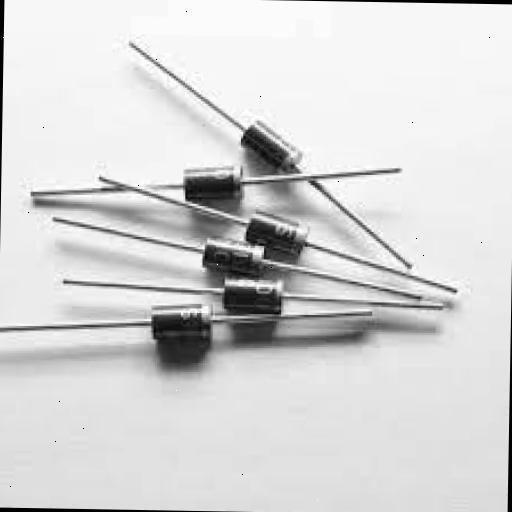DIODE: (0, 34, 463, 360), (140, 286, 282, 368), (230, 104, 344, 200), (173, 160, 318, 235), (214, 196, 318, 278), (209, 272, 329, 322), (190, 233, 275, 280)
